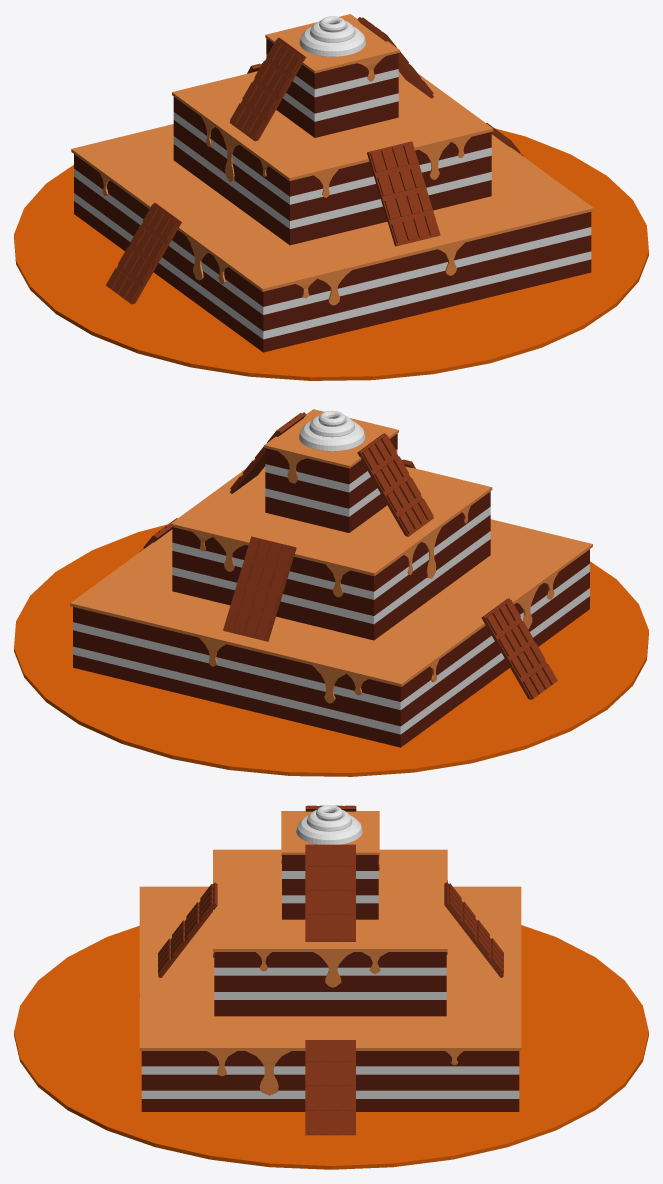
Rendered from cake.fbx.
3 views of the same model, one above another, from view 1: azimuth 30°, elevation 25°; view 2: azimuth 150°, elevation 25°; view 3: azimuth 270°, elevation 25° (orthographic).
Visible parts, largest first — view 1: Cylinder, Cube.011, Cube.005, Cube.008, BiggestLayer, Cube.006, Cube.019, MiddleLayer.001, Cube.002, Cube.009, Cube.007, Cube.021 (+13 smaller); view 2: Cylinder, Cube.011, Cube.005, Cube.008, BiggestLayer, Cube.006, Cube.022, MiddleLayer.001, Cube.002, Cube.009, Cube.007, MiddleLayer (+13 smaller); view 3: Cylinder, Cube.011, Cube.005, Cube.008, Cube.020, Cube.018, Cube.006, BiggestLayer, MiddleLayer.001, Cube.002, MiddleLayer, Cube.009 (+11 smaller).
Part boxes in pixels (bbox=[...]): Cylinder: bbox=[14, 128, 648, 380]; Cube.011: bbox=[71, 124, 593, 305]; Cube.005: bbox=[172, 71, 493, 197]; Cube.008: bbox=[74, 177, 591, 331]; BiggestLayer: bbox=[74, 201, 591, 352]; Cube.006: bbox=[74, 154, 591, 306]; Cube.019: bbox=[367, 141, 440, 246]; MiddleLayer.001: bbox=[173, 144, 491, 245]; Cube.002: bbox=[173, 120, 491, 220]; Cube.009: bbox=[74, 193, 591, 339]; Cube.007: bbox=[74, 168, 591, 314]; Cube.021: bbox=[229, 37, 306, 141]; Cylinder: bbox=[14, 524, 648, 776]; Cube.011: bbox=[70, 519, 592, 703]; Cube.005: bbox=[170, 466, 492, 597]; Cube.008: bbox=[73, 572, 589, 726]; BiggestLayer: bbox=[73, 596, 589, 747]; Cube.006: bbox=[73, 549, 589, 701]; Cube.022: bbox=[223, 536, 296, 641]; MiddleLayer.001: bbox=[172, 539, 490, 640]; Cube.002: bbox=[172, 515, 490, 615]; Cube.009: bbox=[73, 588, 589, 734]; Cube.007: bbox=[73, 564, 589, 710]; MiddleLayer: bbox=[172, 491, 490, 591]; Cylinder: bbox=[14, 925, 648, 1169]; Cube.011: bbox=[139, 886, 521, 1095]; Cube.005: bbox=[213, 849, 447, 987]; Cube.008: bbox=[141, 1074, 519, 1090]; Cube.020: bbox=[305, 844, 355, 941]; Cube.018: bbox=[305, 1040, 355, 1135]; Cube.006: bbox=[141, 1051, 519, 1066]; BiggestLayer: bbox=[141, 1099, 519, 1111]; MiddleLayer.001: bbox=[214, 1000, 446, 1016]; Cube.002: bbox=[214, 975, 446, 991]; MiddleLayer: bbox=[214, 952, 446, 967]; Cube.009: bbox=[141, 1090, 519, 1098].
Size of the model in its own units: 7106 by 2793 by 7106.
